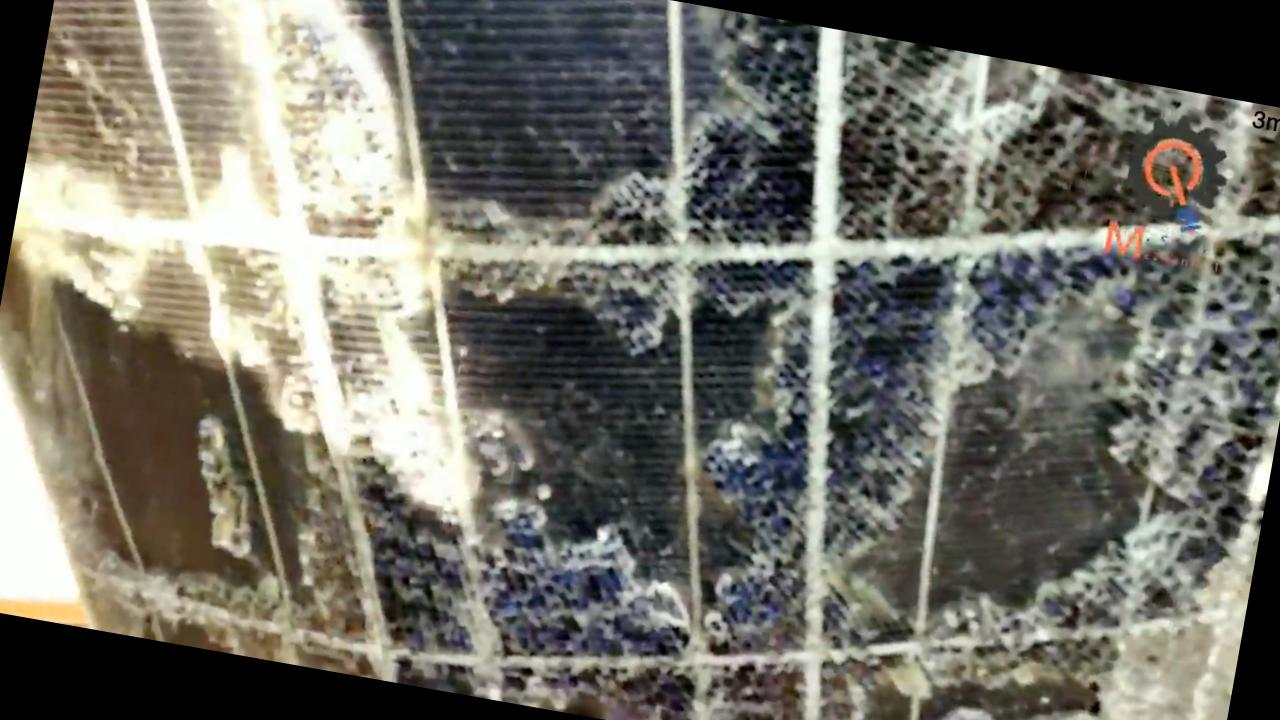Crack: (0, 0, 580, 526), (672, 23, 1099, 388), (292, 383, 754, 719), (629, 336, 1016, 679)
